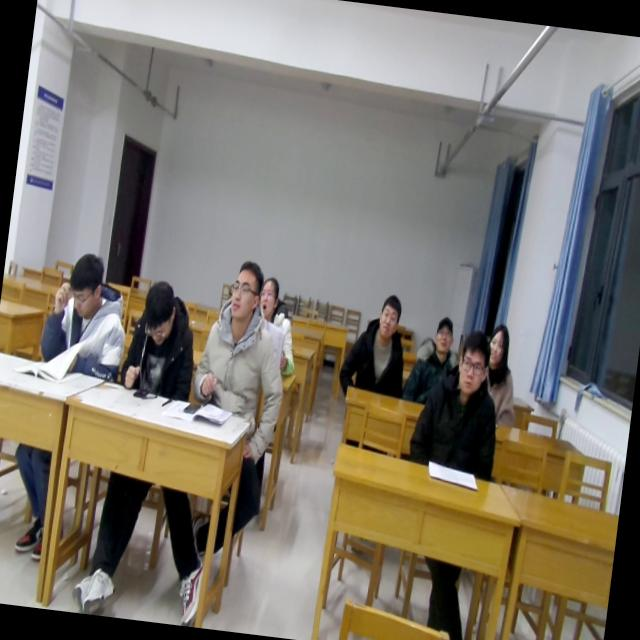down: (62, 245, 111, 322), (134, 273, 180, 351)
lookup: (448, 328, 492, 398), (223, 255, 265, 326), (372, 286, 404, 346), (480, 319, 514, 373), (254, 271, 284, 323), (426, 309, 458, 356)
sit: (188, 255, 298, 415), (405, 323, 511, 479), (32, 249, 134, 385), (118, 278, 202, 406), (336, 289, 414, 399), (402, 312, 462, 409), (251, 276, 305, 377), (477, 319, 527, 426)
